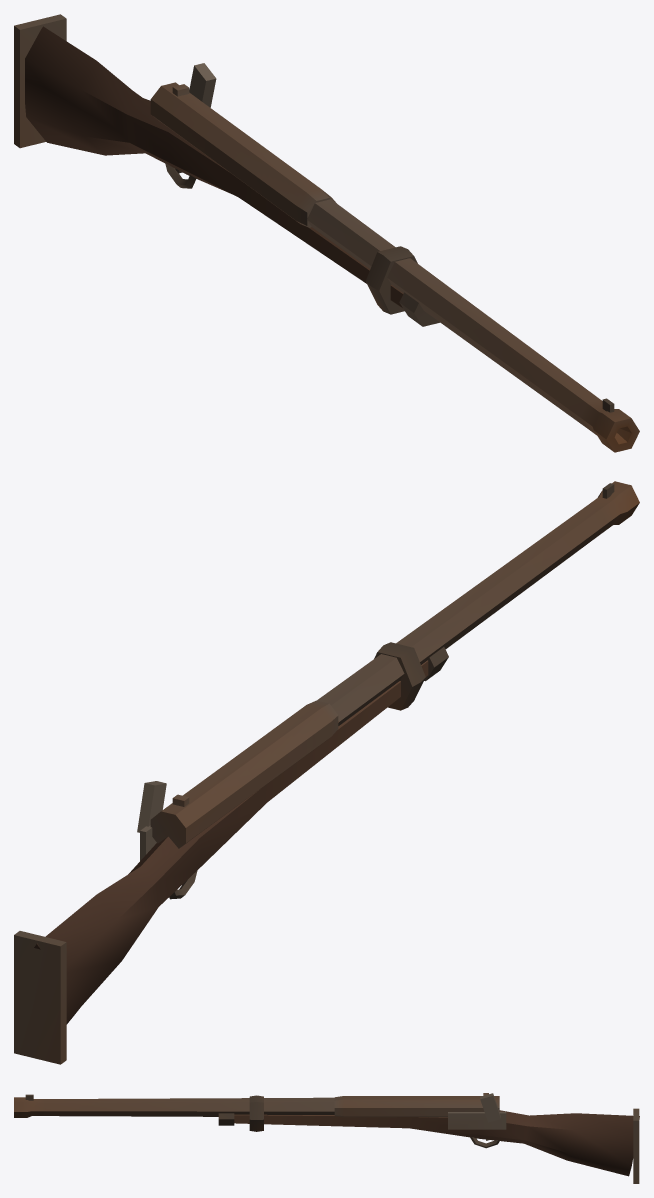
Rendered from weapon_musket_rusty_lo.glb.
The picture shows the model from 3 angles, top to bottom: view 1: azimuth 30°, elevation 25°; view 2: azimuth 150°, elevation 25°; view 3: azimuth 270°, elevation 25°; orthographic projection. The views are drawn at different scales.
Visible parts, largest first — view 1: weapon_musket_rusty_lo; view 2: weapon_musket_rusty_lo; view 3: weapon_musket_rusty_lo.
Boxes of the visible parts, x1,y1,x2,y2 form: weapon_musket_rusty_lo: (14, 14, 639, 452); weapon_musket_rusty_lo: (14, 481, 639, 1064); weapon_musket_rusty_lo: (14, 1093, 639, 1183).
Size of the model in its own units: 0.075 by 0.2206 by 1.39.
